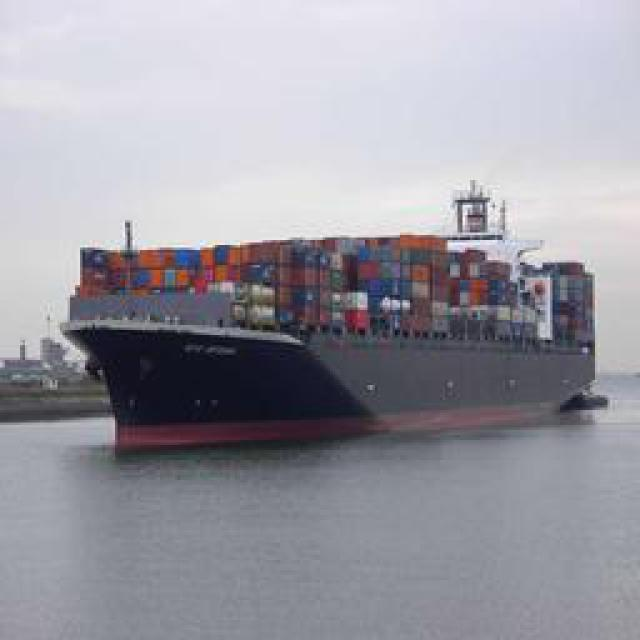Ship: (58, 185, 606, 435)
